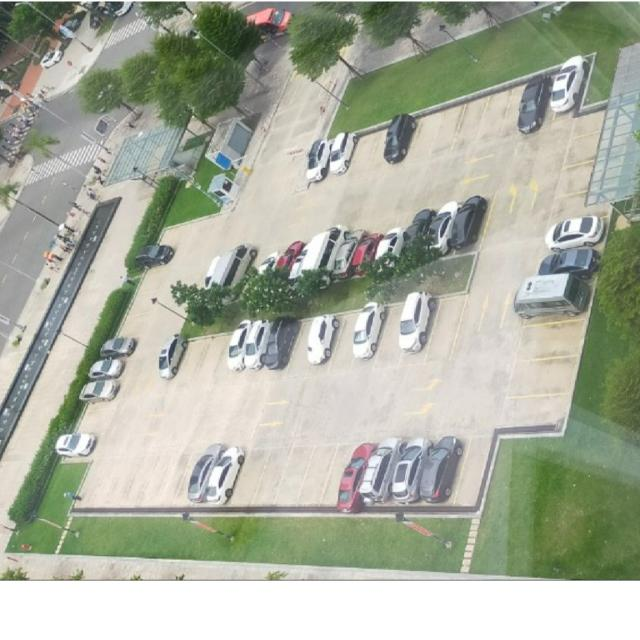car: (188, 443, 245, 503), (514, 273, 589, 318), (360, 438, 406, 504), (336, 443, 376, 513), (419, 437, 462, 502), (391, 437, 431, 503), (300, 226, 349, 273), (188, 443, 226, 502), (399, 291, 436, 350), (550, 55, 588, 112), (544, 216, 604, 250), (210, 244, 258, 286), (262, 318, 300, 370), (450, 196, 488, 248), (518, 75, 551, 133), (352, 301, 385, 358), (539, 248, 600, 278), (331, 231, 368, 279), (429, 201, 460, 254), (401, 209, 436, 255), (308, 314, 339, 365), (384, 114, 416, 162), (350, 234, 384, 274), (244, 319, 271, 369), (159, 334, 188, 379), (330, 132, 358, 174), (228, 319, 251, 370), (306, 139, 330, 182), (375, 227, 405, 258), (55, 433, 95, 456), (135, 244, 174, 267), (276, 239, 305, 269), (80, 380, 120, 401), (100, 336, 138, 358), (89, 358, 125, 380), (289, 248, 307, 282), (258, 251, 280, 274), (205, 256, 221, 285), (439, 203, 440, 204)
freeslot: (511, 316, 590, 364), (559, 119, 633, 170), (502, 353, 580, 401), (497, 389, 575, 436), (552, 151, 629, 198), (422, 294, 470, 366), (548, 183, 619, 230), (452, 433, 494, 507), (316, 441, 360, 508), (294, 443, 340, 507), (271, 444, 317, 507), (250, 445, 295, 508), (568, 101, 638, 141), (229, 447, 273, 507), (369, 305, 407, 373), (449, 94, 491, 152), (282, 318, 320, 380), (170, 338, 211, 395), (474, 88, 515, 144), (404, 109, 445, 165), (188, 336, 229, 392), (325, 312, 361, 375), (427, 102, 468, 157), (153, 452, 193, 508), (119, 454, 159, 510), (135, 453, 174, 508), (104, 455, 143, 509), (87, 456, 125, 509), (72, 458, 109, 509), (170, 451, 202, 508), (345, 131, 381, 180), (204, 334, 233, 392), (498, 82, 527, 140), (76, 407, 119, 436), (364, 127, 388, 178), (117, 311, 155, 339), (127, 289, 163, 318), (247, 244, 275, 281), (138, 266, 170, 294), (158, 225, 189, 246)
